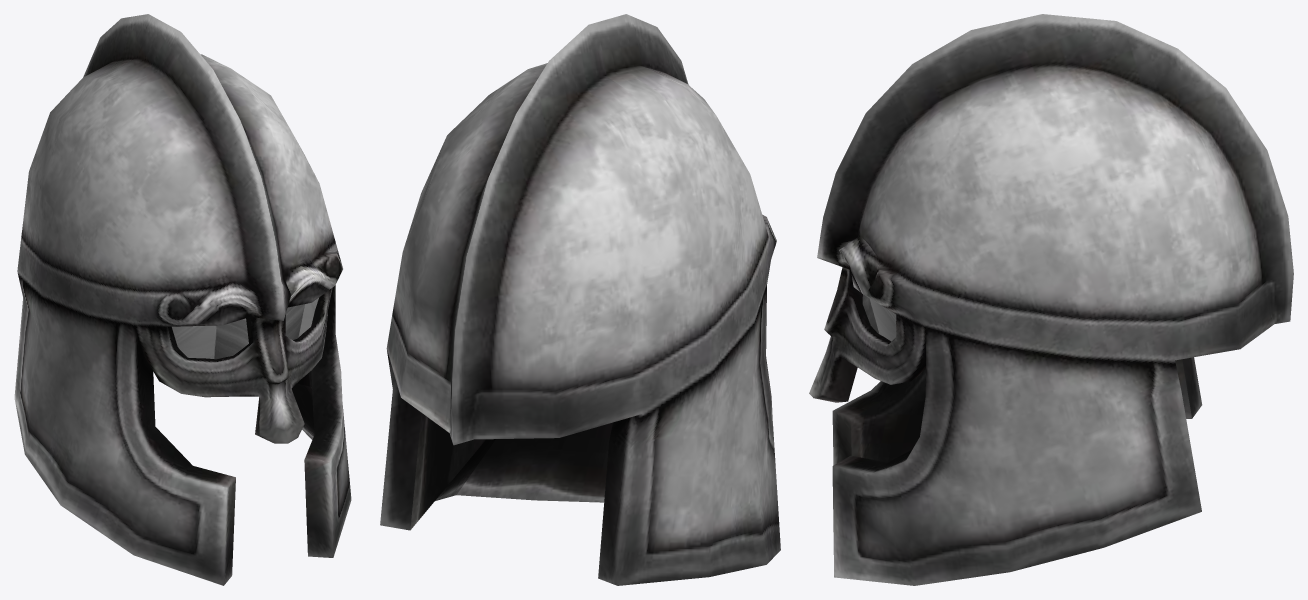
Rendered from armor-heavyinfantry.glb.
3 views of the same model, side by side, from view 1: azimuth 30°, elevation 25°; view 2: azimuth 150°, elevation 25°; view 3: azimuth 270°, elevation 25° (orthographic). The views are drawn at different scales.
Bounding box in the file's own units: 0.2605 × 0.4239 × 0.3499.
Materials: 1 (1 with a texture image).
